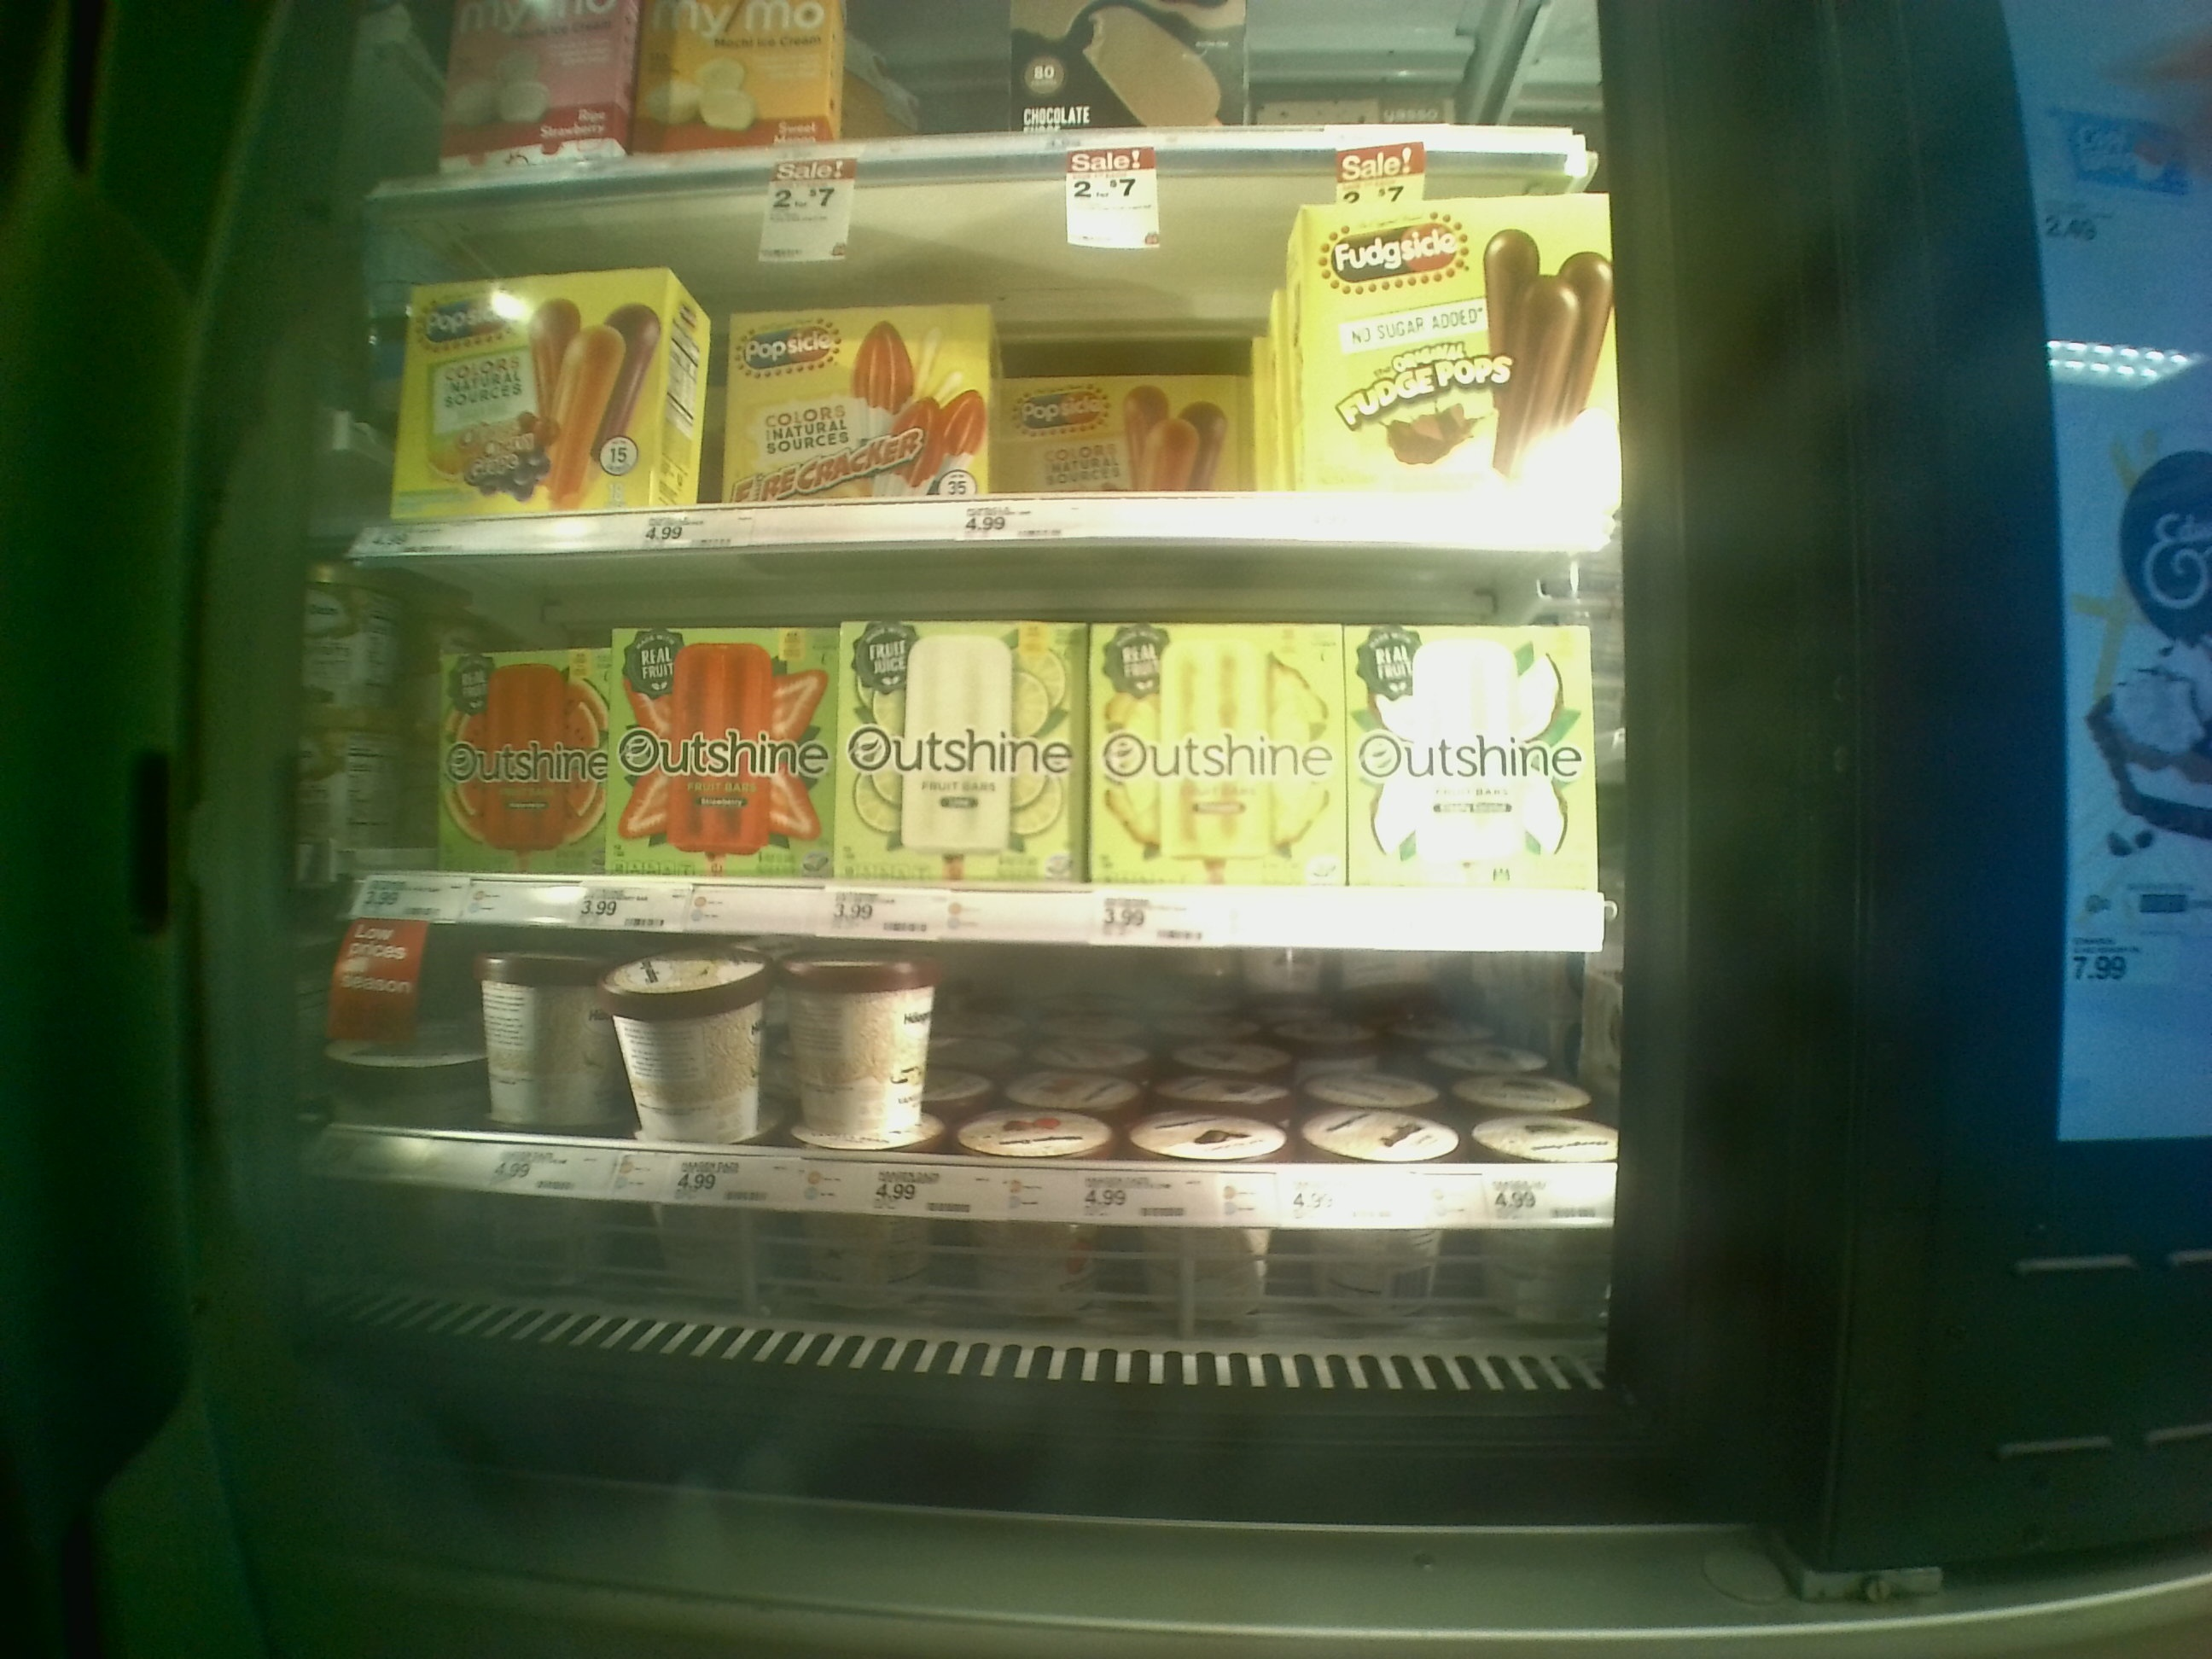ice-cream-shelf: (350, 556, 1623, 945), (380, 186, 1622, 551), (354, 924, 1615, 1225)
